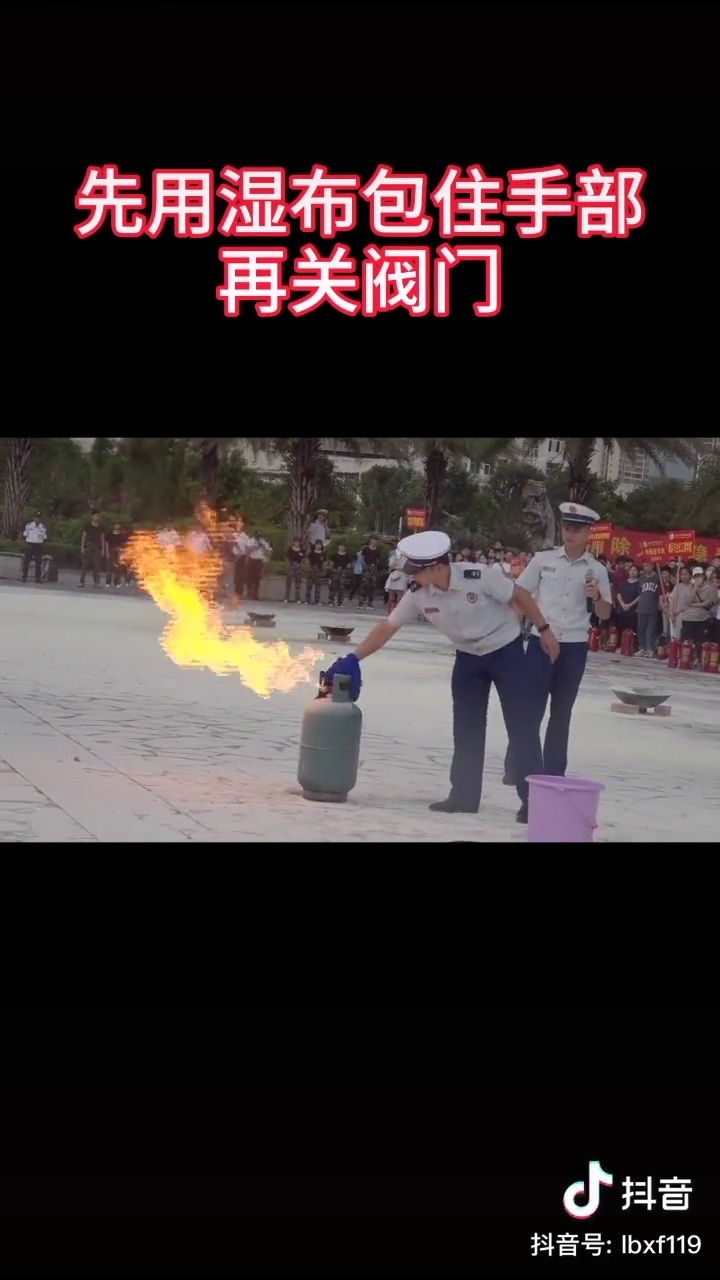fire: (123, 524, 296, 706)
